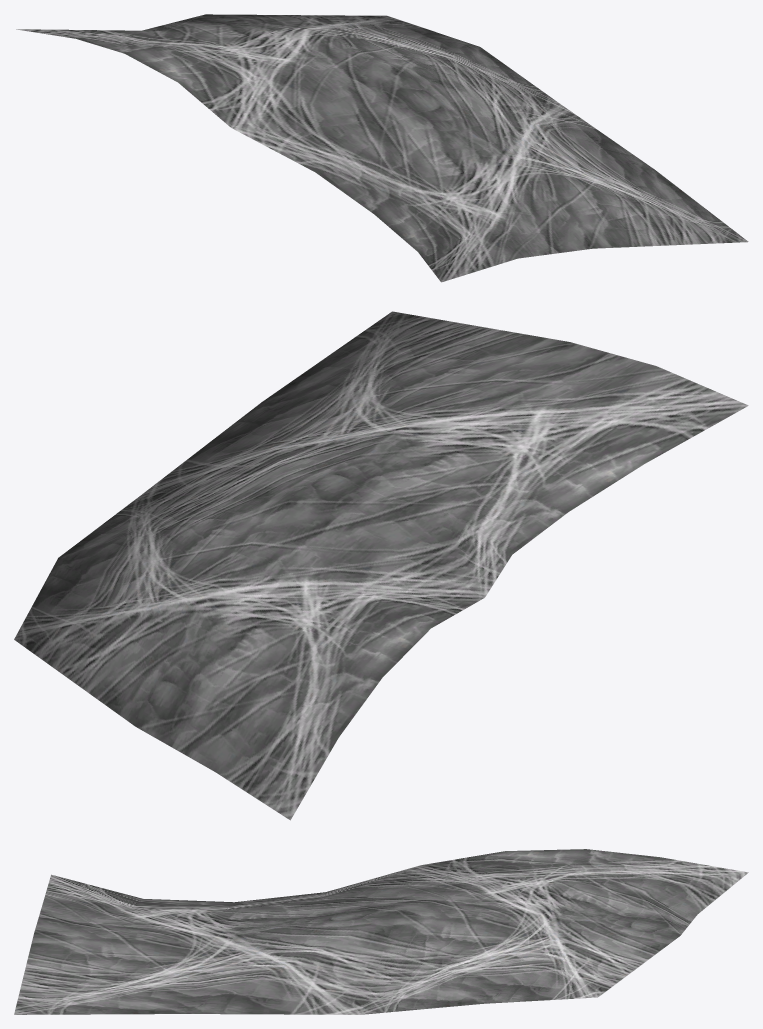
Rendered from SWORDLIGHT20_PS-AREA01_41.fbx.
The picture shows the model from 3 angles, top to bottom: view 1: azimuth 30°, elevation 25°; view 2: azimuth 150°, elevation 25°; view 3: azimuth 270°, elevation 25°; orthographic projection. The views are drawn at different scales.
Visible parts, largest first — view 1: SWORDLIGHT20_PS-AREA01_41; view 2: SWORDLIGHT20_PS-AREA01_41; view 3: SWORDLIGHT20_PS-AREA01_41.
Part boxes in pixels (x1,y1,x2,y2): SWORDLIGHT20_PS-AREA01_41: (16, 14, 748, 282); SWORDLIGHT20_PS-AREA01_41: (14, 311, 748, 820); SWORDLIGHT20_PS-AREA01_41: (14, 849, 748, 1014).
Bounding box in the file's own units: 71076 × 11443 × 150756.
1 material, 1 textured.
